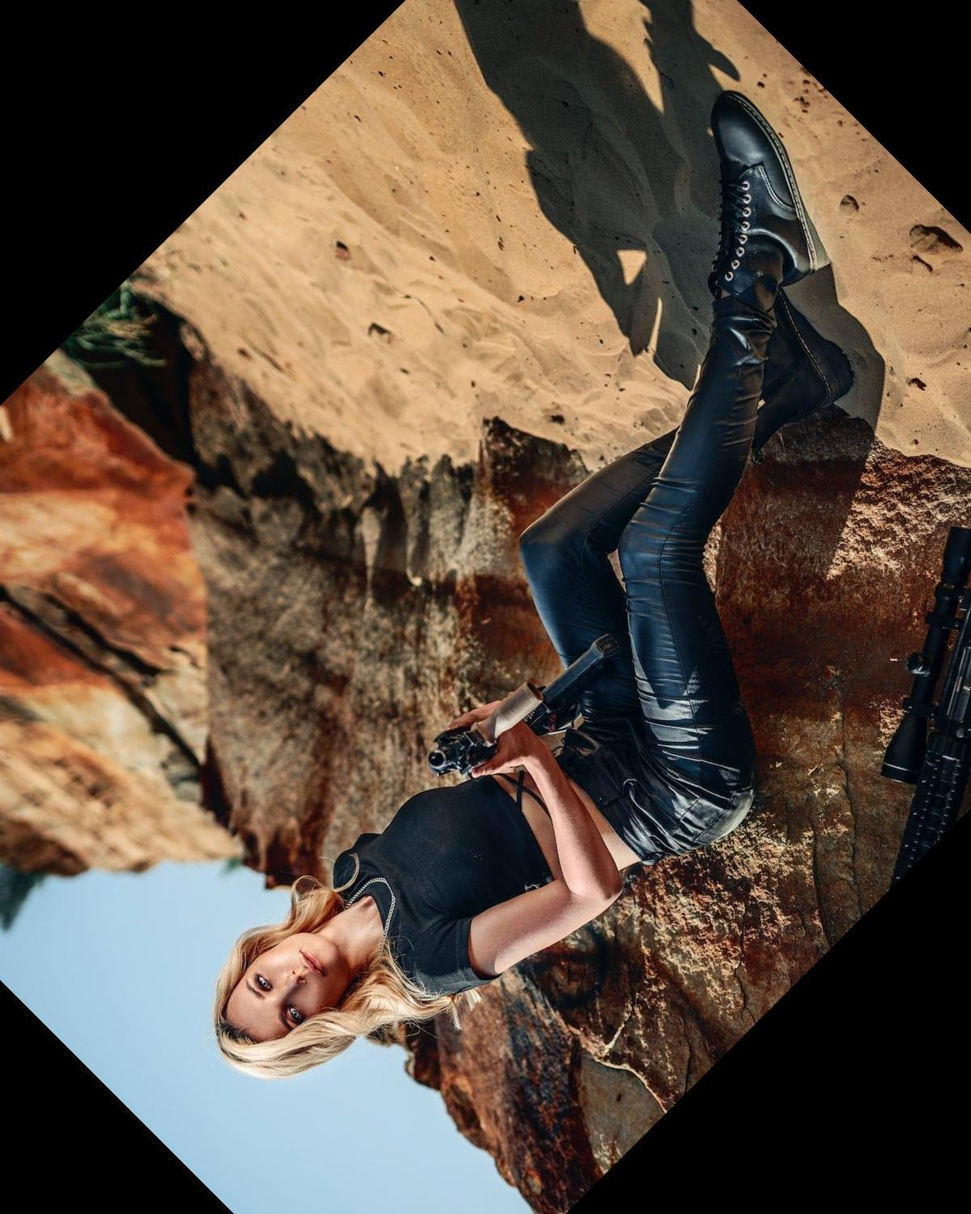larga: (879, 523, 971, 902), (426, 634, 621, 781)
